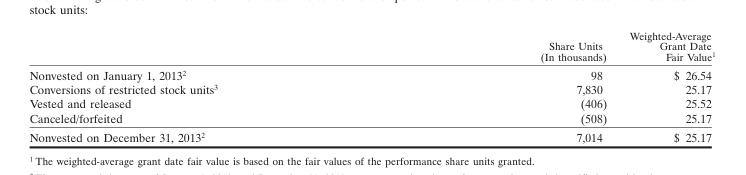table: (28, 28, 714, 143)
table column: (28, 28, 378, 143), (378, 28, 617, 143), (617, 28, 714, 143)
table column header: (28, 28, 714, 64)
table row: (28, 28, 714, 64), (28, 64, 714, 81), (28, 110, 714, 127), (28, 127, 714, 143), (28, 81, 714, 96), (28, 96, 714, 110)
